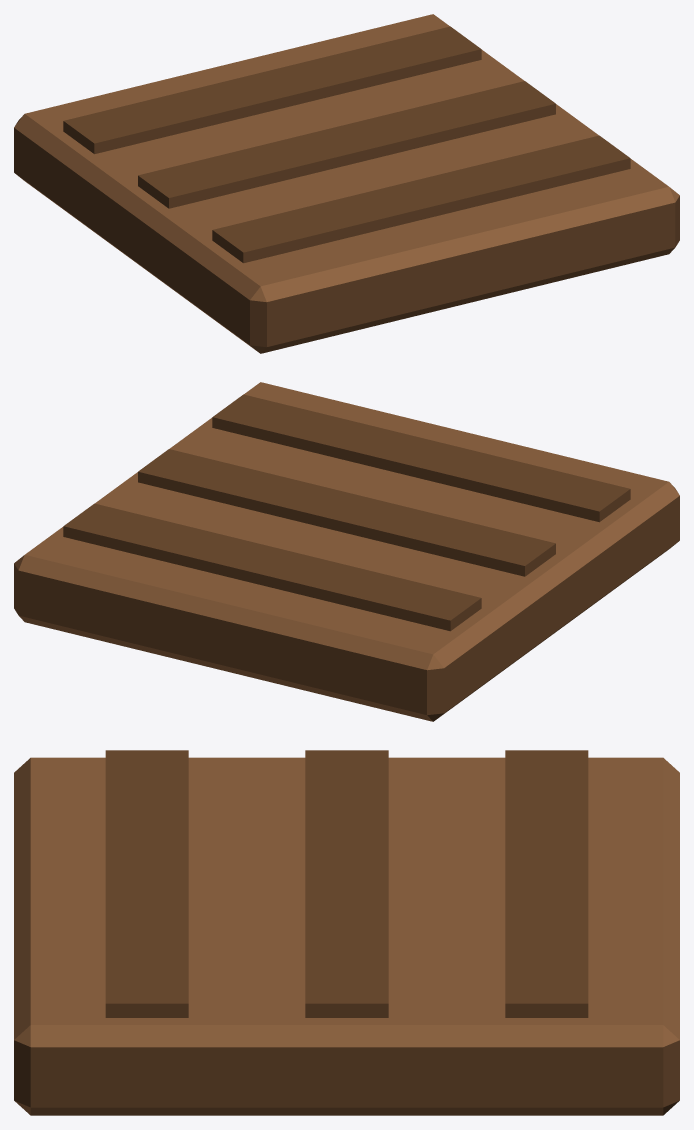
File: EmptyPlot.fbx
3 views of the same model, one above another, from view 1: azimuth 30°, elevation 25°; view 2: azimuth 150°, elevation 25°; view 3: azimuth 270°, elevation 25° (orthographic). The views are drawn at different scales.
Parts seen in each view (by area): view 1: EmptyPlot; view 2: EmptyPlot; view 3: EmptyPlot.
Part boxes in pixels (bbox=[...]): EmptyPlot: bbox=[14, 14, 679, 353]; EmptyPlot: bbox=[14, 382, 679, 721]; EmptyPlot: bbox=[14, 750, 679, 1115].
Size of the model in its own units: 4 by 0.695 by 4.
Materials: 1 (1 with a texture image).
